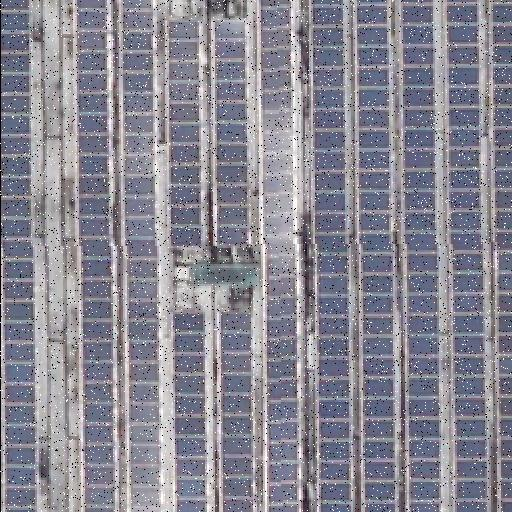solar-panel: (74, 0, 118, 512), (255, 0, 297, 512), (307, 0, 349, 512), (0, 0, 40, 512), (122, 0, 162, 512), (354, 0, 394, 512), (398, 0, 438, 512), (446, 0, 486, 512), (488, 0, 512, 512), (164, 17, 204, 247), (213, 19, 251, 245), (172, 312, 208, 512), (218, 312, 254, 512)
